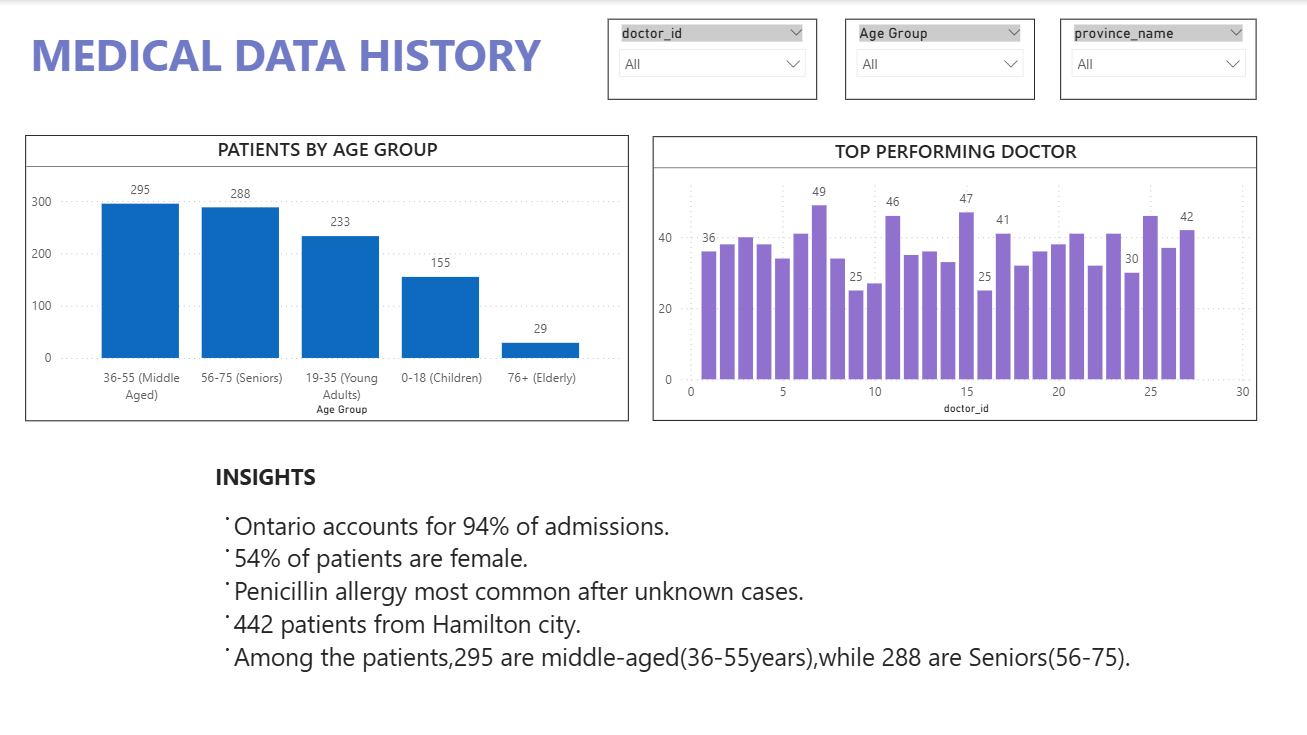

The page's visual inventory and layout, read from the dashboard file:
{"tool":"powerbi","page":{"name":"Page 2","canvas":[1280,720],"ordinal":1},"visuals":[{"type":"clusteredColumnChart","title":"TOP PERFORMING DOCTOR","fields":{"Category":["doctors.doctor_id"],"Y":["Table.Total Admissions"]},"box":[639.5,133.1,591.4,278.6],"z":0},{"type":"clusteredColumnChart","title":"PATIENTS BY AGE GROUP","fields":{"Category":["patients.Age Group"],"Y":["CountNonNull(patients.patient_id)"]},"box":[26.1,131.7,590.1,279.9],"z":1000},{"type":"slicer","fields":{"Values":["doctors.doctor_id"]},"box":[595.5,17.8,204.5,79.6],"z":1001},{"type":"slicer","fields":{"Values":["patients.Age Group"]},"box":[827.4,17.8,185.2,79.6],"z":1002},{"type":"slicer","fields":{"Values":["province.province_name"]},"box":[1038.8,17.8,192.1,79.6],"z":1003},{"type":"textbox","box":[26.1,564,539.3,46.7],"z":1005},{"type":"textbox","box":[26.1,17.8,529.7,79.6],"z":1007},{"type":"textbox","box":[123.5,446,1000.3,249.7],"z":1008}]}

Visuals, with their boxes in screenshot pixels (x1, y1, x2, y2), scaled from the page's 1280x720 canvas onto the 1307x735 screenshot:
"TOP PERFORMING DOCTOR" clusteredColumnChart: {"x1": 653, "y1": 136, "x2": 1257, "y2": 420}
"PATIENTS BY AGE GROUP" clusteredColumnChart: {"x1": 27, "y1": 134, "x2": 629, "y2": 420}
slicer - doctors.doctor_id: {"x1": 608, "y1": 18, "x2": 817, "y2": 99}
slicer - patients.Age Group: {"x1": 845, "y1": 18, "x2": 1034, "y2": 99}
slicer - province.province_name: {"x1": 1061, "y1": 18, "x2": 1257, "y2": 99}
textbox: {"x1": 27, "y1": 576, "x2": 577, "y2": 623}
textbox: {"x1": 27, "y1": 18, "x2": 568, "y2": 99}
textbox: {"x1": 126, "y1": 455, "x2": 1148, "y2": 710}
